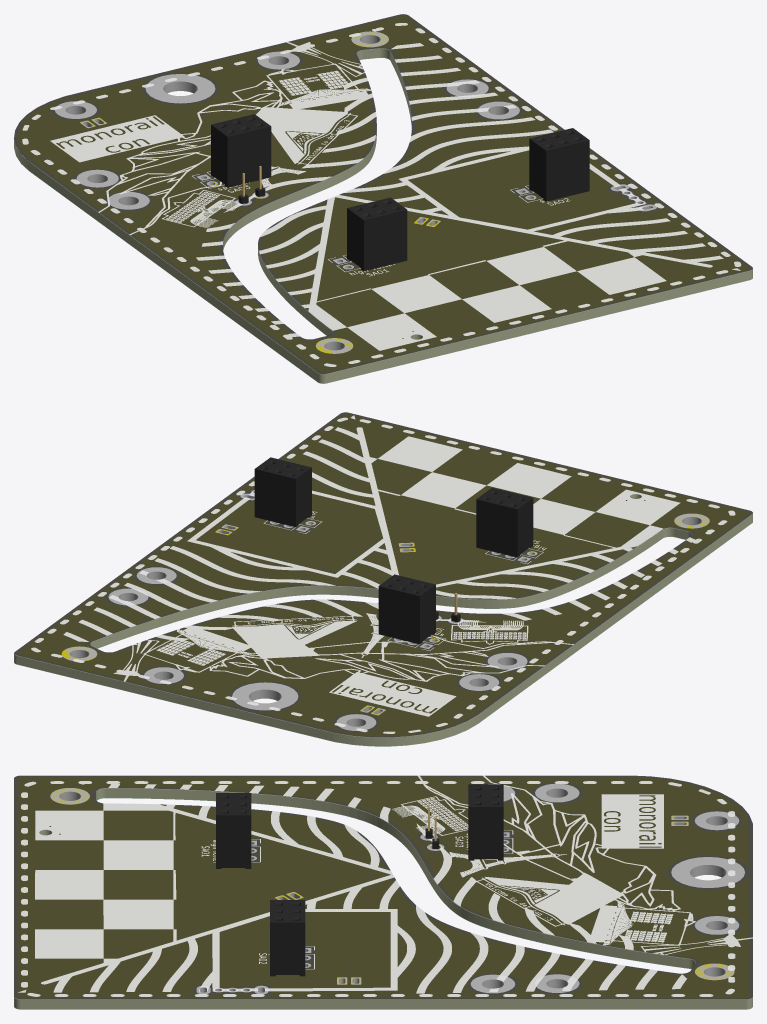
File: monorail-badge-with-sphere-and-high-roller-sao.glb
3 renders of one model, top to bottom at view 1: azimuth 30°, elevation 25°; view 2: azimuth 150°, elevation 25°; view 3: azimuth 270°, elevation 25°, orthographic. The views are drawn at different scales.
Visible parts, largest first — view 1: =>[0:1:1:17], =>[0:1:1:3]; view 2: =>[0:1:1:17], =>[0:1:1:3]; view 3: =>[0:1:1:17], =>[0:1:1:3].
Boxes of the visible parts, <box> form: =>[0:1:1:17]: <box>14,14,752,383</box>; =>[0:1:1:3]: <box>18,16,748,372</box>; =>[0:1:1:17]: <box>14,412,752,746</box>; =>[0:1:1:3]: <box>18,414,748,735</box>; =>[0:1:1:17]: <box>14,775,752,1009</box>; =>[0:1:1:3]: <box>18,777,748,997</box>.
Bounding box in the file's own units: 0.0759 × 0.0116 × 0.1059.
Materials: 2 (2 with a texture image).
